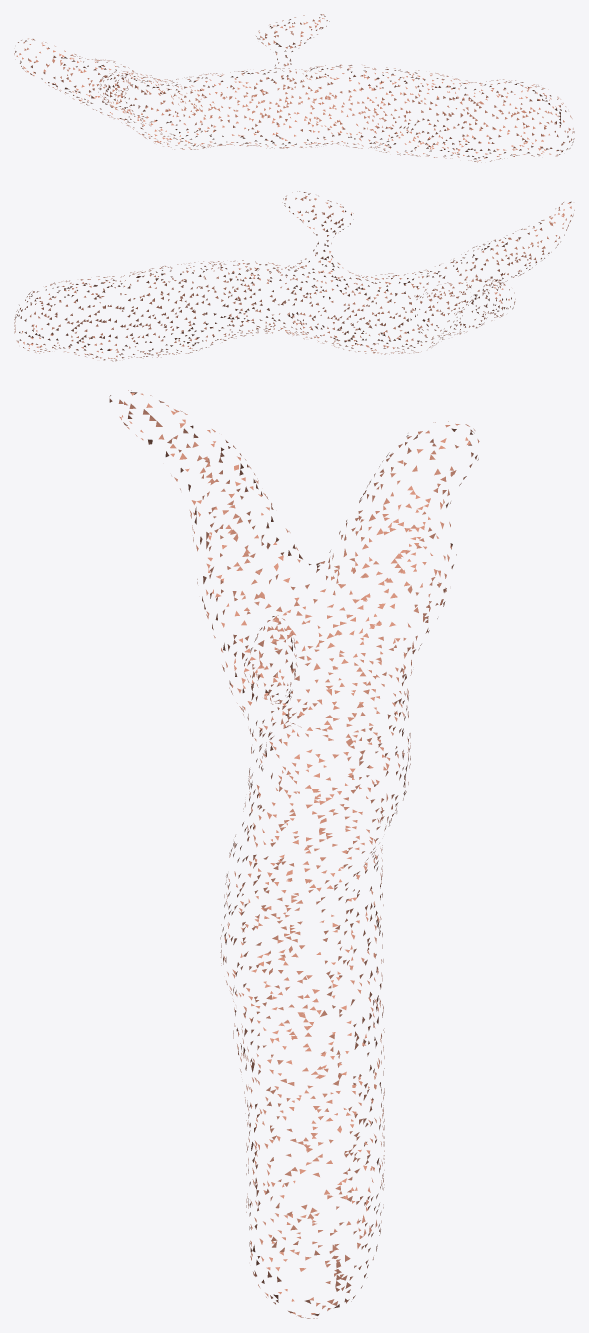
Rendered from morph_003.glb.
The picture shows the model from 3 angles, top to bottom: view 1: azimuth 30°, elevation 25°; view 2: azimuth 150°, elevation 25°; view 3: azimuth 270°, elevation 25°; orthographic projection. The views are drawn at different scales.
Size of the model in its own units: 127 by 54.09 by 39.64.
